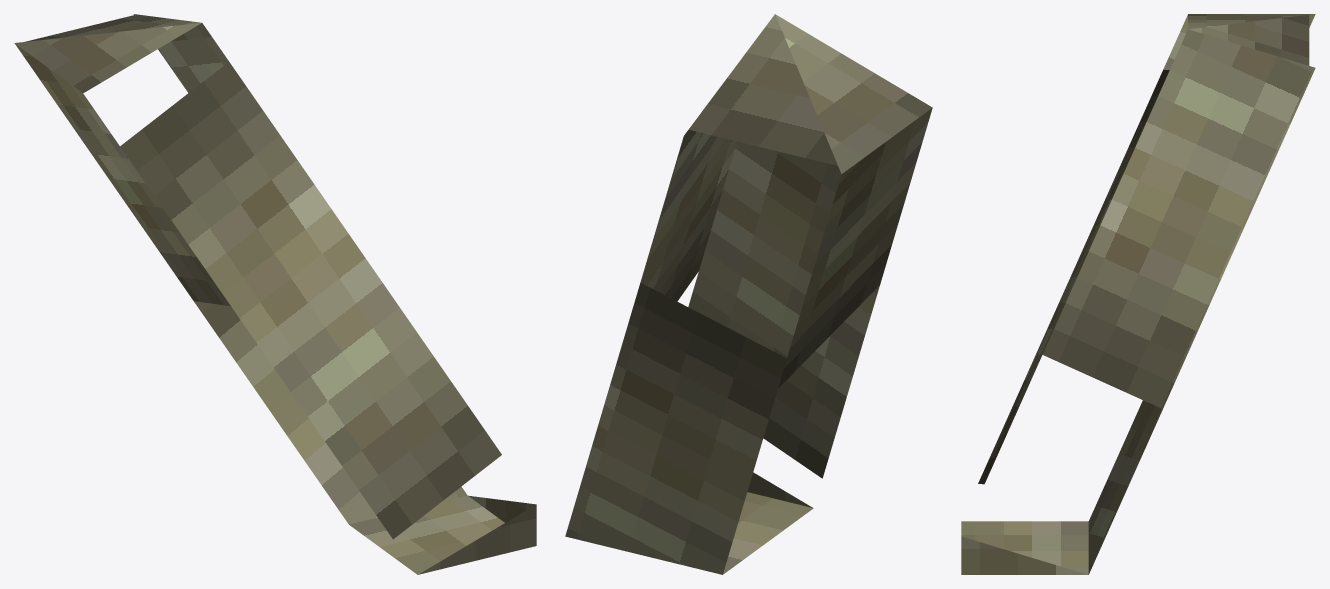
The model's file is beech_branch_22.5_diagonal.obj.
The picture shows the model from 3 angles, left to right: view 1: azimuth 30°, elevation 25°; view 2: azimuth 150°, elevation 25°; view 3: azimuth 270°, elevation 25°; orthographic projection. The views are drawn at different scales.
Visible parts, largest first — view 1: cube; view 2: cube; view 3: cube.
Boxes of the visible parts, x1=… form: cube: x1=14, y1=14, x2=536, y2=574; cube: x1=565, y1=14, x2=932, y2=574; cube: x1=961, y1=14, x2=1315, y2=574.
Bounding box in the file's own units: 1.56 × 2.19 × 1.56.
